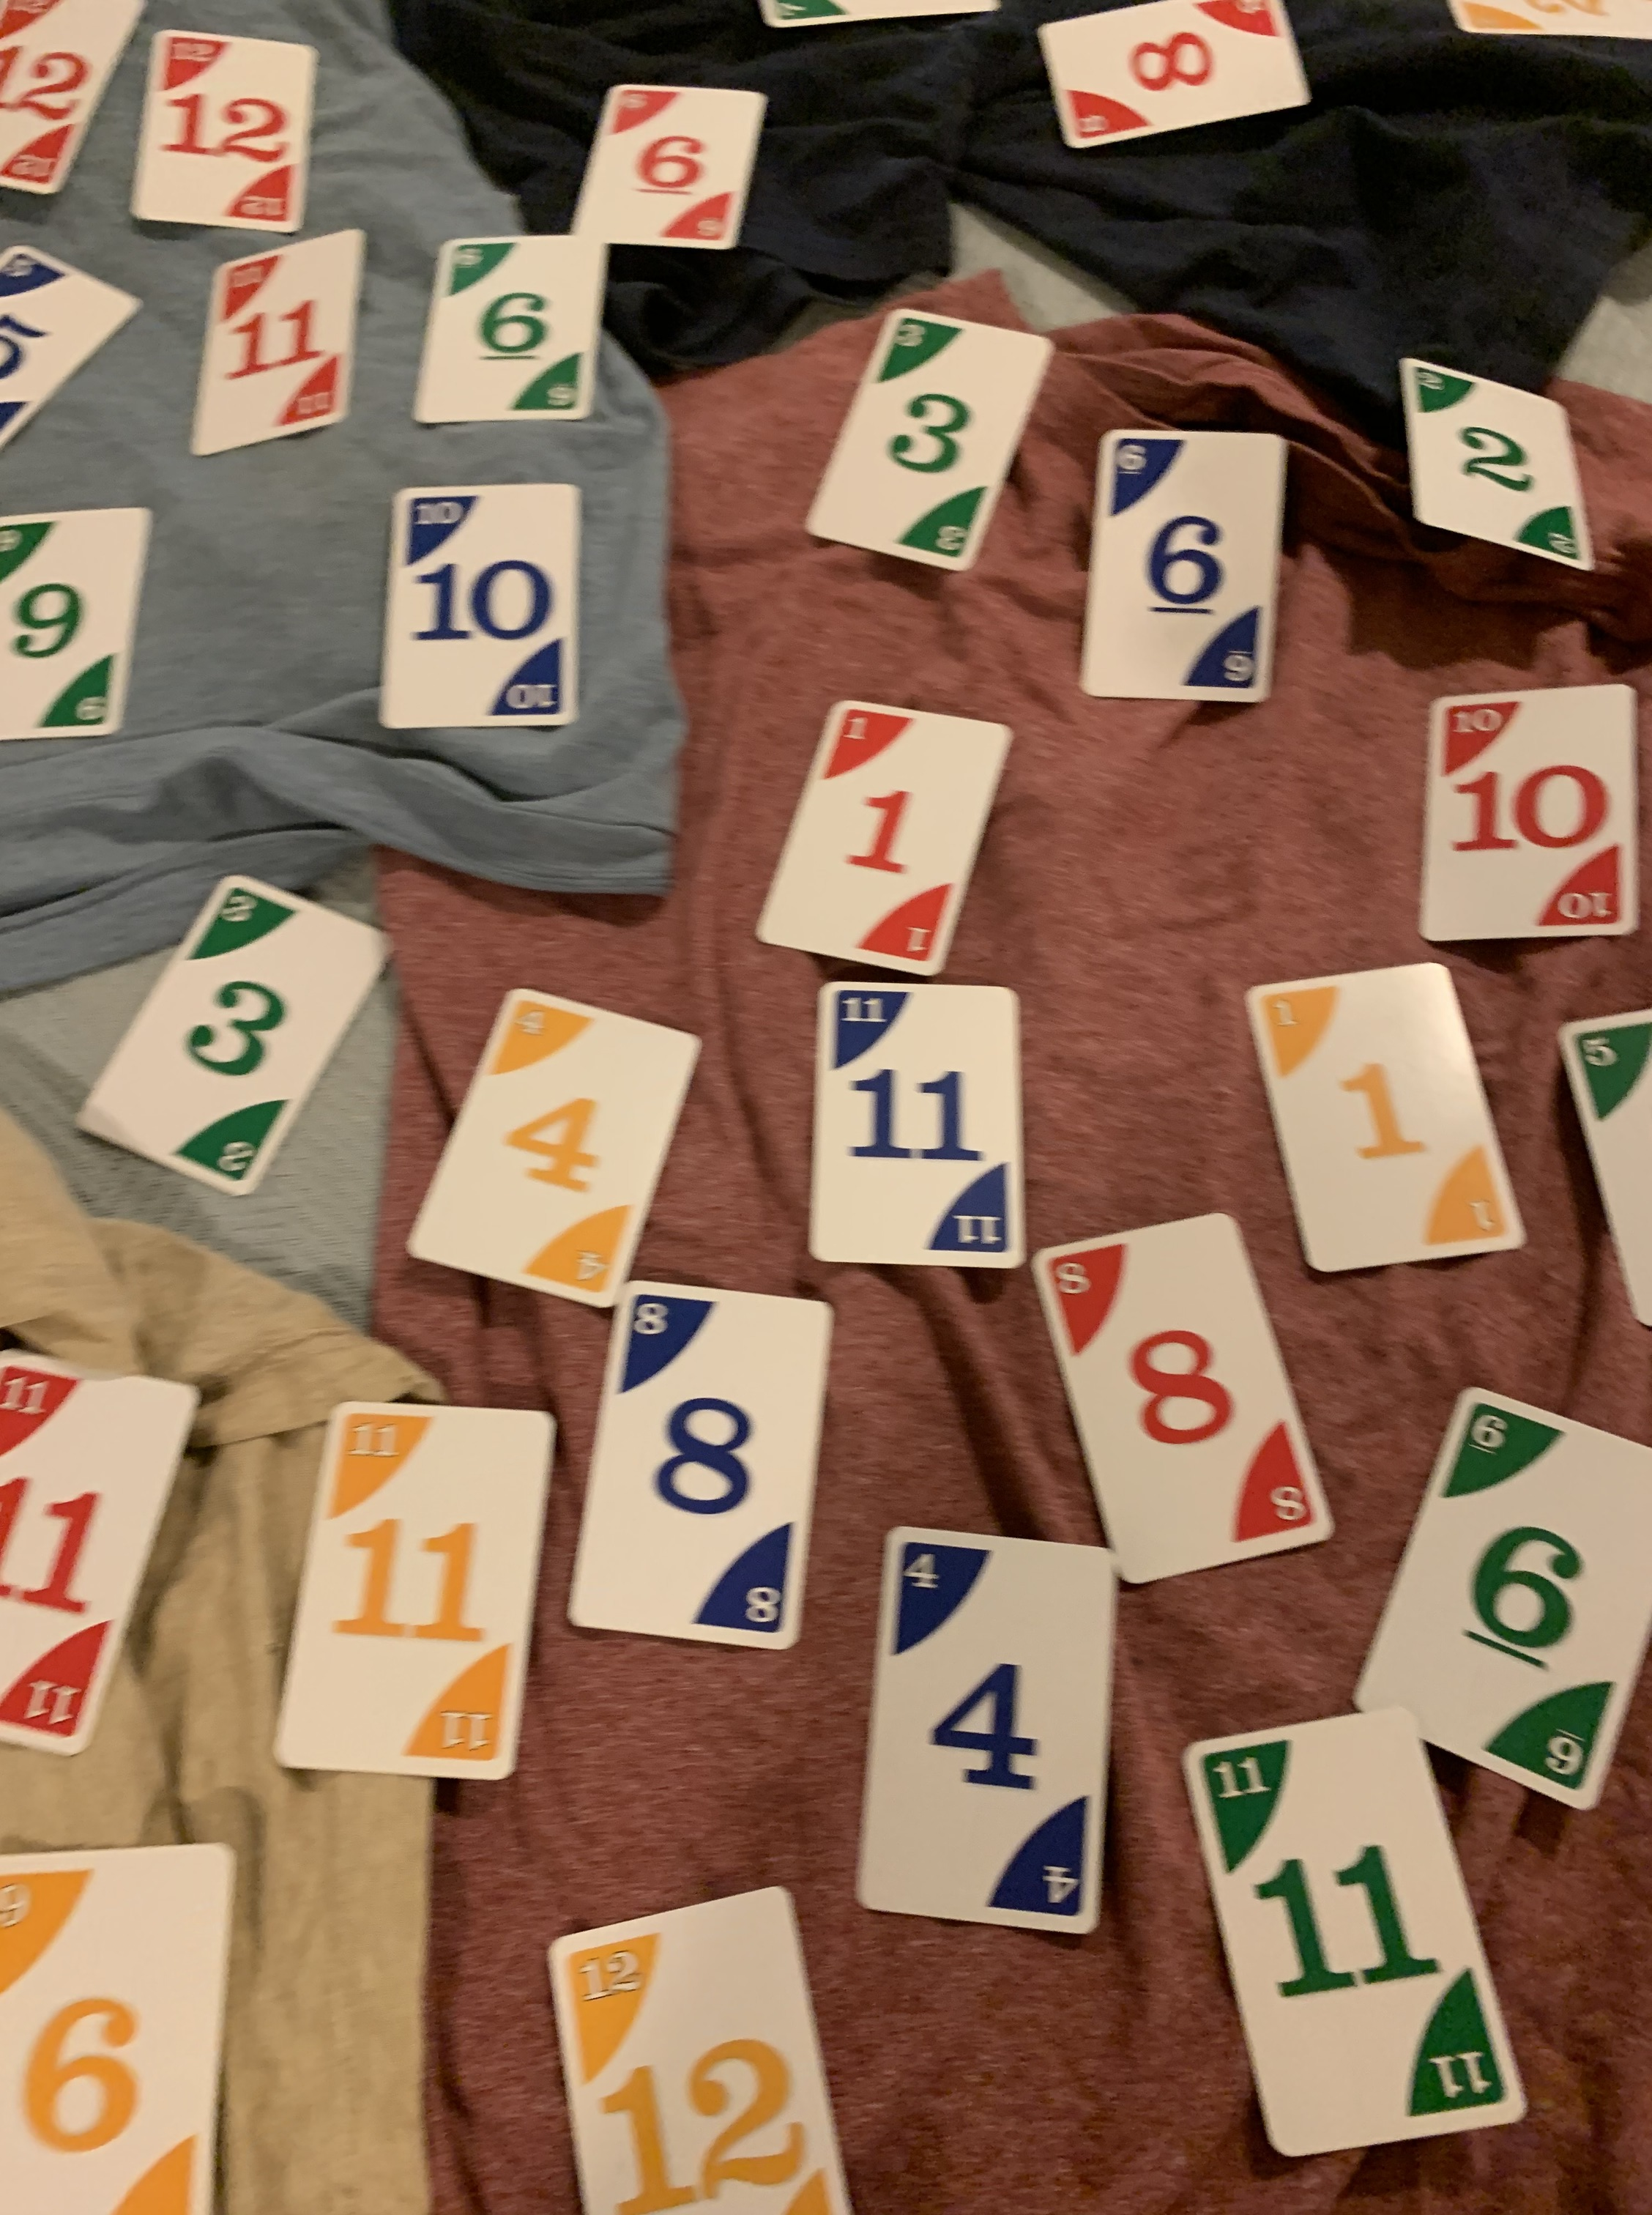eight: (1031, 1194, 1338, 1597), (562, 1274, 847, 1660)
eleven: (260, 1385, 573, 1786), (791, 976, 1039, 1285), (180, 219, 377, 457)
four: (835, 1507, 1149, 1944), (403, 981, 708, 1305)
one: (1239, 958, 1517, 1278), (750, 689, 1013, 976)
six: (1343, 1390, 1652, 1809), (1048, 413, 1301, 705), (404, 220, 599, 427), (562, 73, 770, 257)
ten: (1407, 674, 1642, 951)
three: (76, 854, 420, 1189), (798, 307, 1052, 575)
twelve: (514, 1875, 854, 2215), (118, 24, 325, 245)
two: (1390, 347, 1595, 583)
